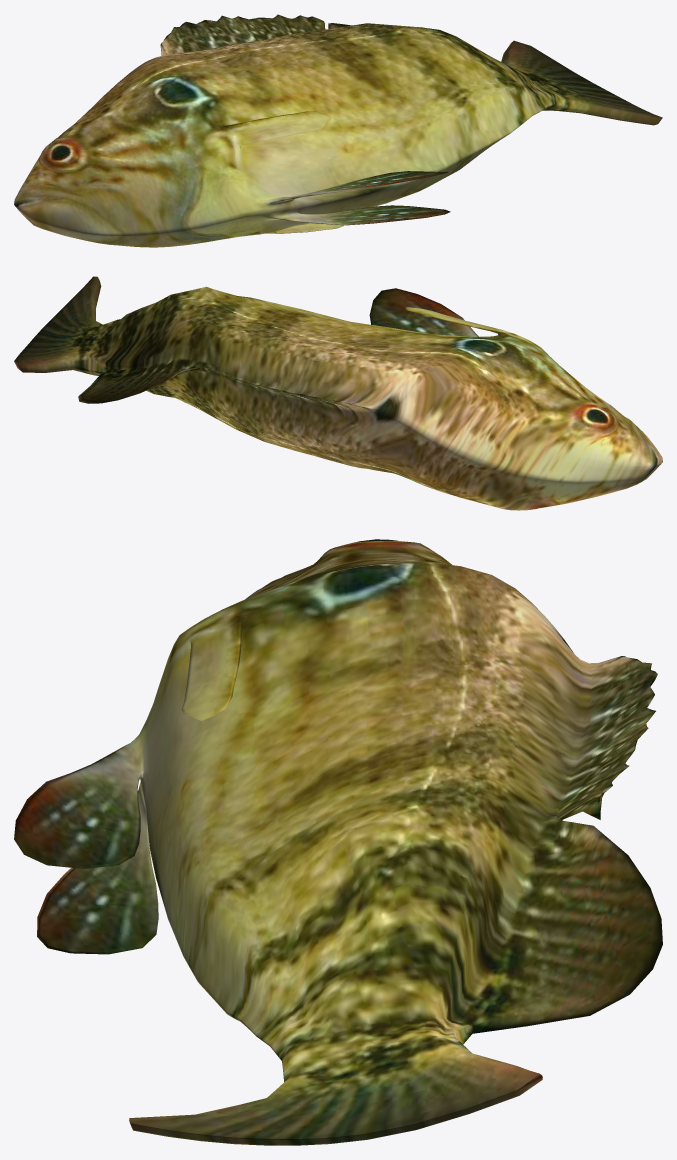
Rendered from oyanirami_model.fbx.
3 views of the same model, one above another, from view 1: azimuth 30°, elevation 25°; view 2: azimuth 150°, elevation 25°; view 3: azimuth 270°, elevation 25° (orthographic). The views are drawn at different scales.
Parts seen in each view (by area): view 1: pCube1; view 2: pCube1; view 3: pCube1.
Part boxes in pixels (x1,y1,x2,y2): pCube1: (14,14,662,247); pCube1: (14,276,662,510); pCube1: (14,539,662,1145).
Size of the model in its own units: 6.19 by 1.5 by 3.16.
